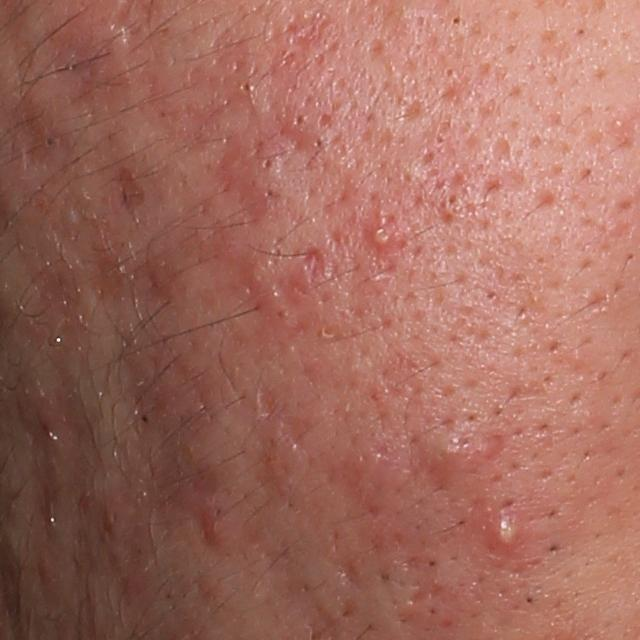atrophic_scar: (395, 93, 432, 128), (302, 244, 328, 286)
comedo: (237, 78, 259, 97), (291, 111, 308, 129), (441, 63, 457, 80), (312, 136, 327, 151), (449, 13, 463, 26)
papule: (218, 136, 292, 205), (340, 444, 415, 503), (412, 422, 477, 482), (193, 508, 228, 548)
pustule: (481, 504, 526, 552), (366, 221, 401, 248)
